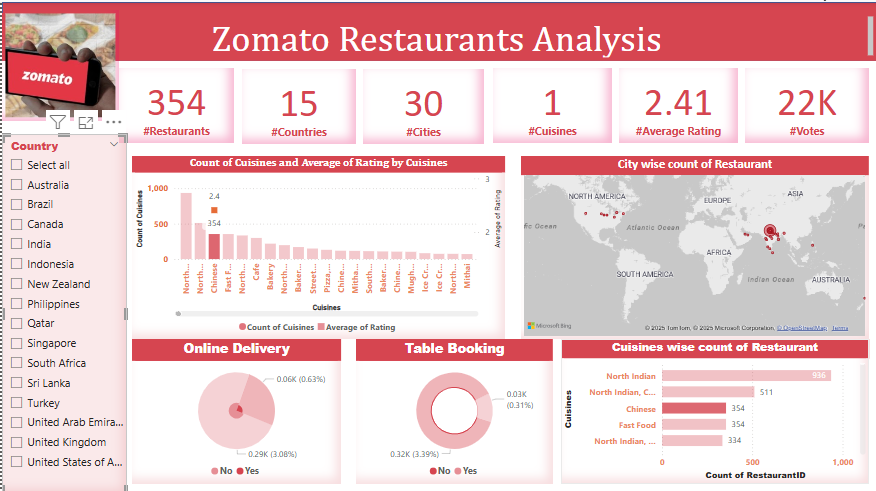

What the dashboard file says about the page in this screenshot:
{"tool":"powerbi","page":{"name":"Page 1","canvas":[1280,720],"ordinal":0},"visuals":[{"type":"shape","box":[0,0,1280.5,86.3],"z":0},{"type":"textbox","box":[150,256,300,300],"z":1000},{"type":"textbox","box":[0,16.1,1280.5,70.2],"z":2000},{"type":"image","box":[0,11.7,171.2,162.4],"z":3000},{"type":"card","fields":{"Values":["CountNonNull(Resturants.RestaurantID)"]},"box":[171.2,96.6,168.3,109.8],"z":4000},{"type":"card","fields":{"Values":["Count(Resturants.City)"]},"box":[528.3,98,177.1,109.8],"z":5000},{"type":"card","fields":{"Values":["Count(Resturants.Cuisines)"]},"box":[718.5,96.6,174.1,109.8],"z":6000},{"type":"card","fields":{"Values":["Avg(Resturants.Rating)"]},"box":[902.9,96.6,174.1,109.8],"z":7000},{"type":"card","fields":{"Values":["Sum(Resturants.Votes)"]},"box":[1087.3,96.6,181.5,109.8],"z":8000},{"type":"slicer","fields":{"Values":["Country.country name"]},"box":[0,193.2,182.9,526.8],"z":9000},{"type":"lineStackedColumnComboChart","fields":{"Category":["Resturants.Cuisines"],"Y":["CountNonNull(Resturants.Cuisines)"],"Y2":["Avg(Resturants.Rating)"]},"box":[190.2,225.4,545.9,267.8],"z":10000},{"type":"barChart","title":"Cuisines wise count of Restaurant","fields":{"Y":["CountNonNull(Resturants.RestaurantID)"],"Category":["Resturants.Cuisines"]},"box":[818,493.2,450.7,212.2],"z":11000},{"type":"map","title":"City wise count of Restaurant","fields":{"Category":["Resturants.City"],"Size":["CountNonNull(Resturants.RestaurantID)"]},"box":[759.5,225.4,509.3,267.8],"z":12000},{"type":"pieChart","title":"Online Delivery","fields":{"Category":["Resturants.Has_Online_delivery"],"Y":["CountNonNull(Resturants.RestaurantID)"]},"box":[190.2,493.2,305.9,212.2],"z":13000},{"type":"donutChart","title":"Table Booking","fields":{"Category":["Resturants.Has_Table_booking"],"Y":["CountNonNull(Resturants.RestaurantID)"]},"box":[518,493.2,288.3,212.2],"z":14000},{"type":"card","fields":{"Values":["Count(Country.country name)"]},"box":[351.2,98,166.8,109.8],"z":15000}]}

Visuals, with their boxes on the page's 1280x720 design canvas (x1, y1, x2, y2). These are canvas units, not pixel positions in the 876x491 screenshot, which may show the page scaled, cropped or inside an application window:
shape: bbox=[0, 0, 1280, 86]
textbox: bbox=[150, 256, 450, 556]
textbox: bbox=[0, 16, 1280, 86]
image: bbox=[0, 12, 171, 174]
card - CountNonNull(Resturants.RestaurantID): bbox=[171, 97, 340, 206]
card - Count(Resturants.City): bbox=[528, 98, 705, 208]
card - Count(Resturants.Cuisines): bbox=[718, 97, 893, 206]
card - Avg(Resturants.Rating): bbox=[903, 97, 1077, 206]
card - Sum(Resturants.Votes): bbox=[1087, 97, 1269, 206]
slicer - Country.country name: bbox=[0, 193, 183, 720]
lineStackedColumnComboChart - Resturants.Cuisines x CountNonNull(Resturants.Cuisines): bbox=[190, 225, 736, 493]
"Cuisines wise count of Restaurant" barChart: bbox=[818, 493, 1269, 705]
"City wise count of Restaurant" map: bbox=[760, 225, 1269, 493]
"Online Delivery" pieChart: bbox=[190, 493, 496, 705]
"Table Booking" donutChart: bbox=[518, 493, 806, 705]
card - Count(Country.country name): bbox=[351, 98, 518, 208]
